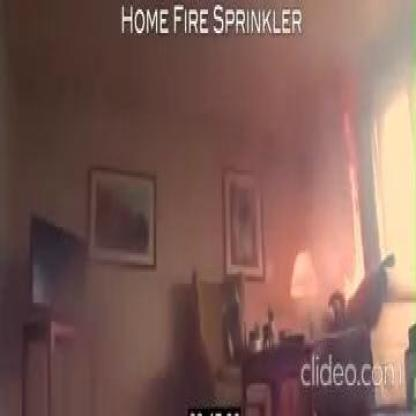fire: (330, 107, 367, 296)
